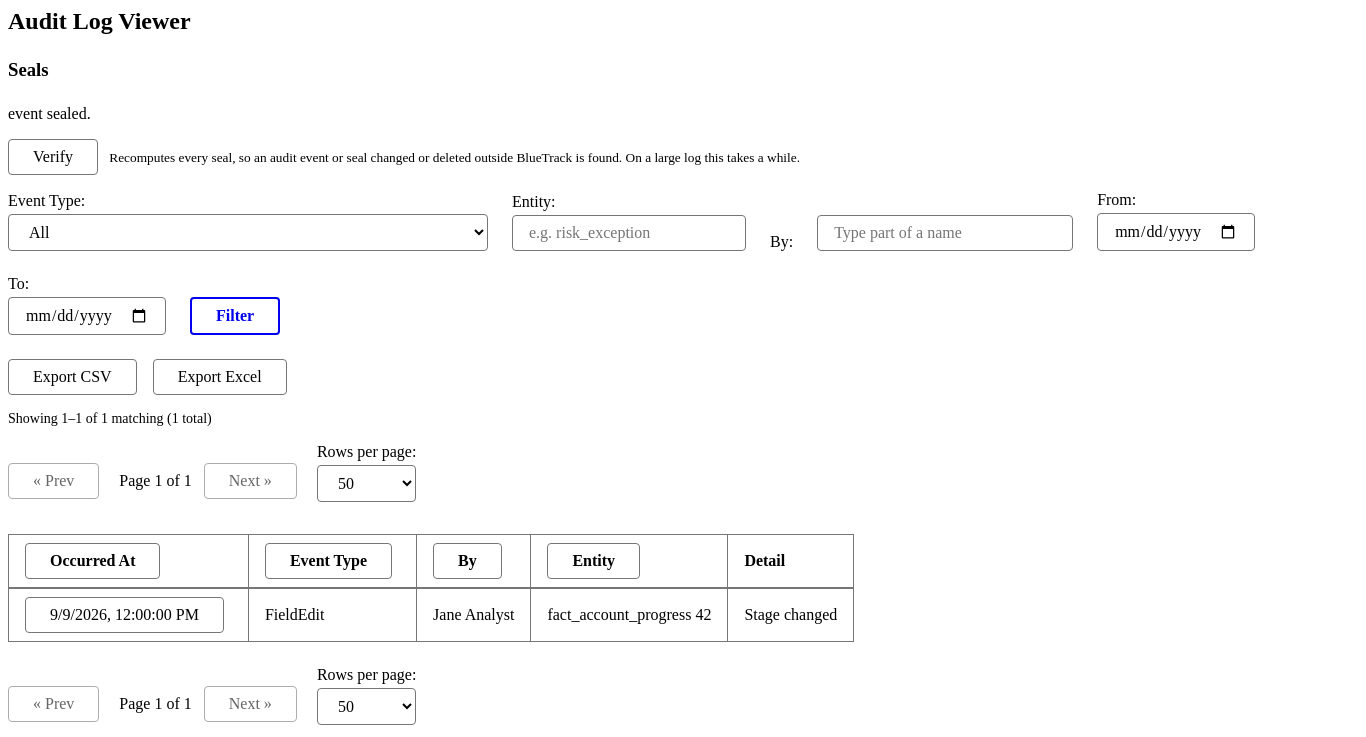
Test: AuditLogViewer.vue › field-level changes › no answer at all is an error too
Click the button "9/9/2026, 12:00:00 PM": x=124, y=615 [25, 597, 224, 633]
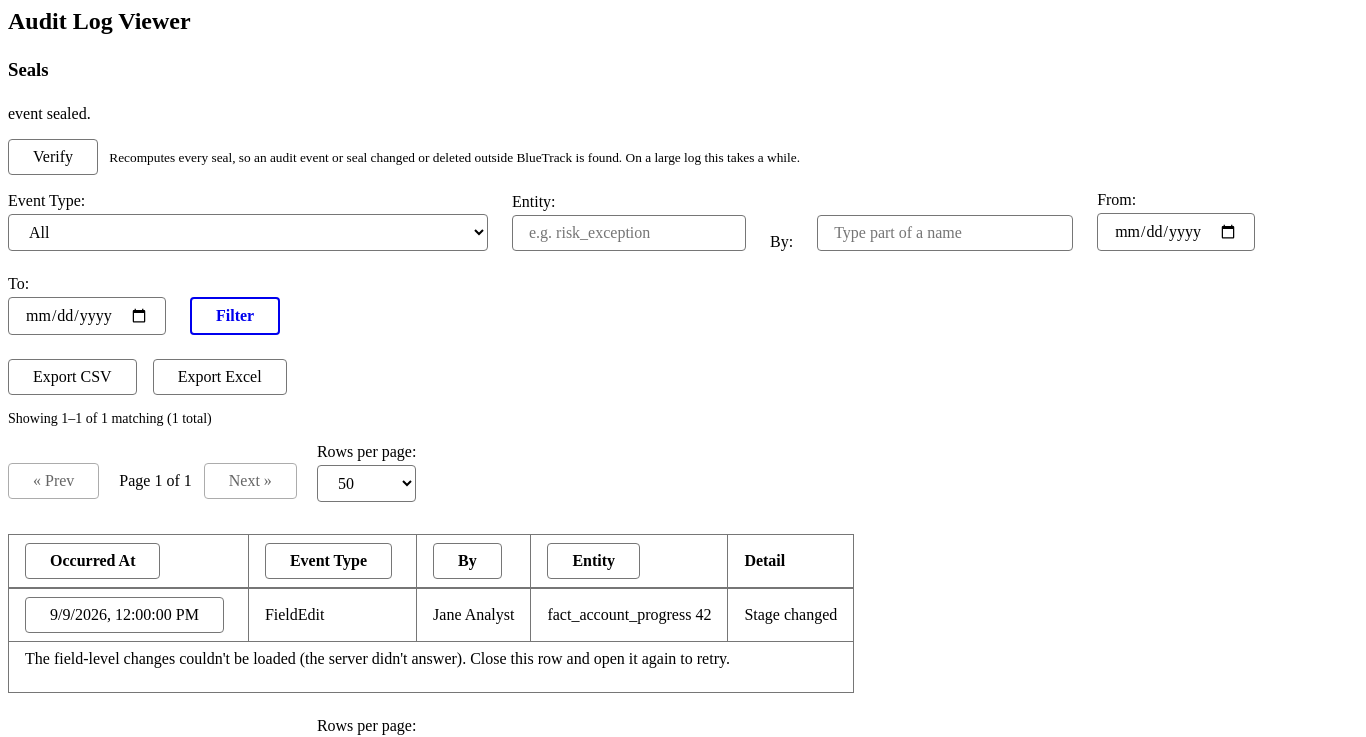
expect the 2nd message shows "the server didn't answer": met, box [25, 650, 730, 667]
